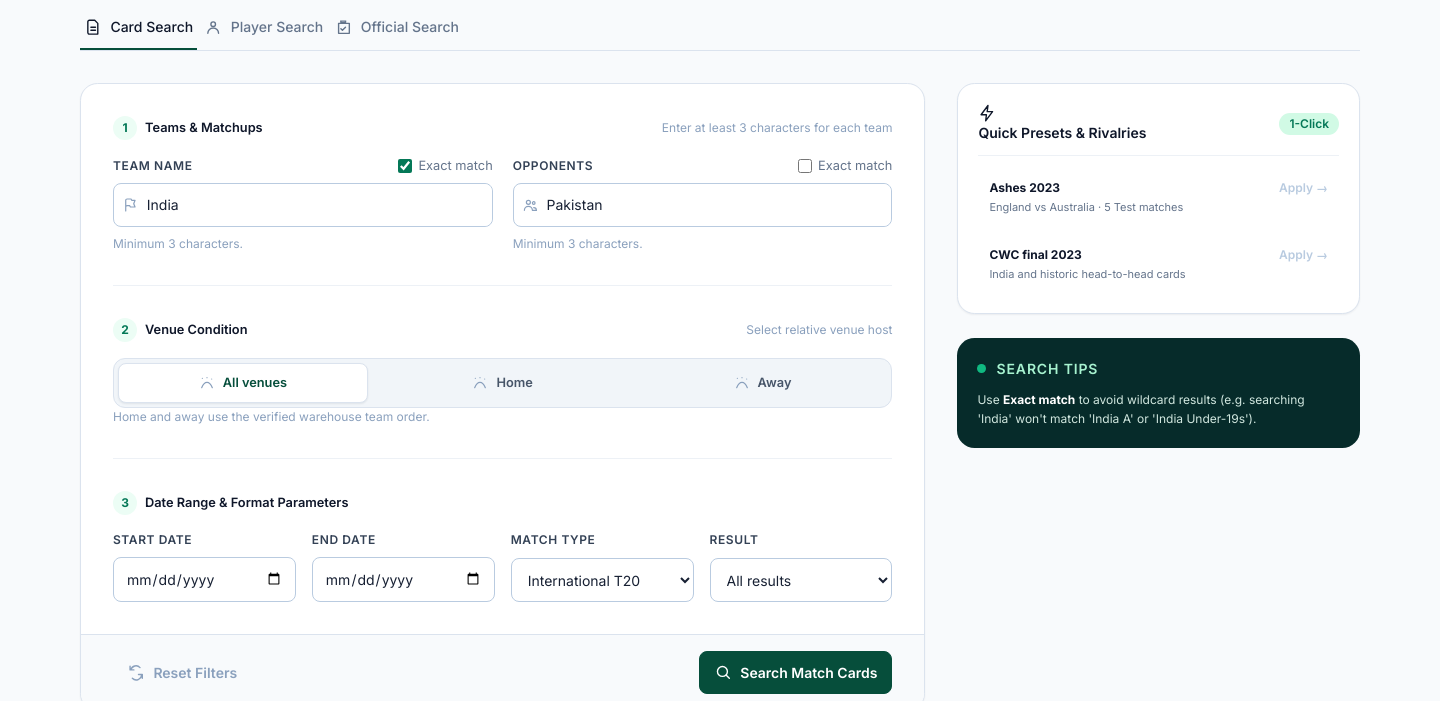
Test: MatchSearchComponent › should show an error for each name that has fewer than three characters
Replace the text in the field named "team" with "ab" at (319, 205), box [147,184,492,226]
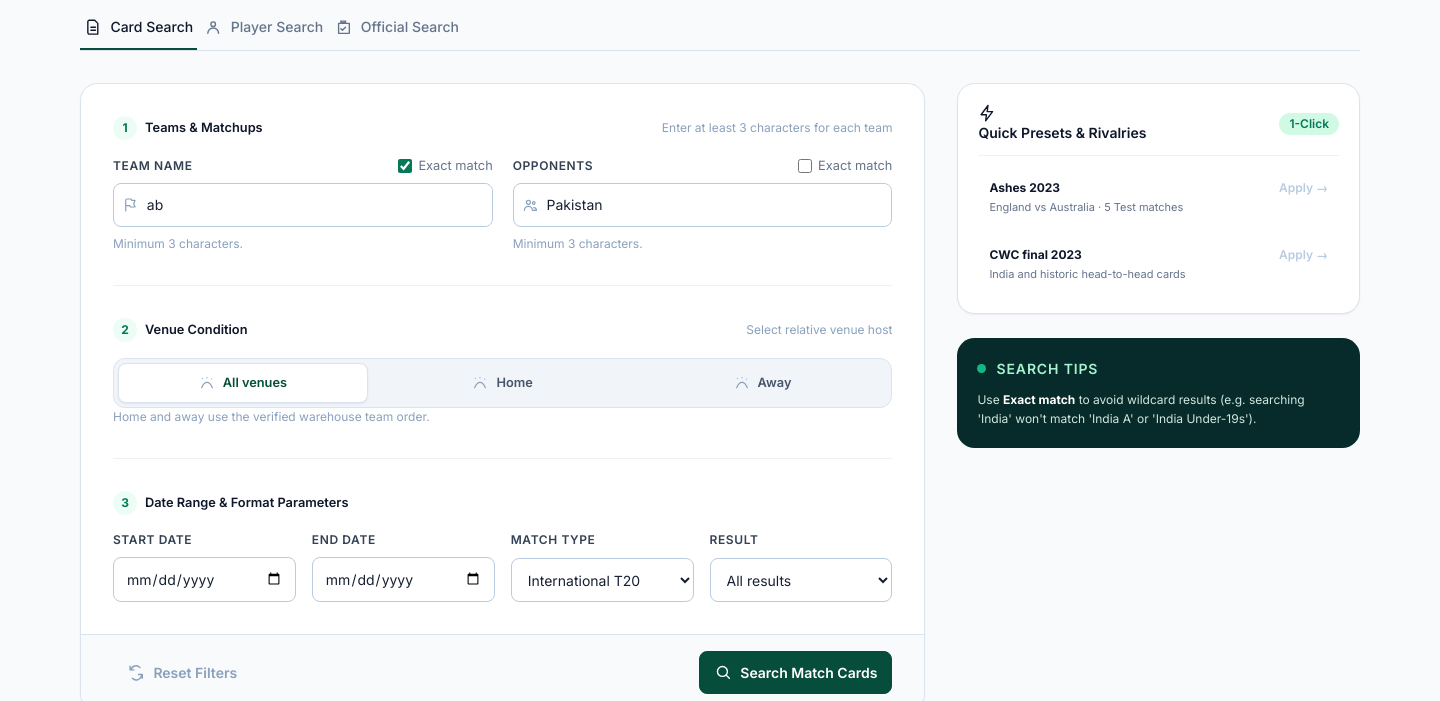
Replace the text in the field named "opponents" with "x" at (719, 205), box [546,184,891,226]
(page scrolled)
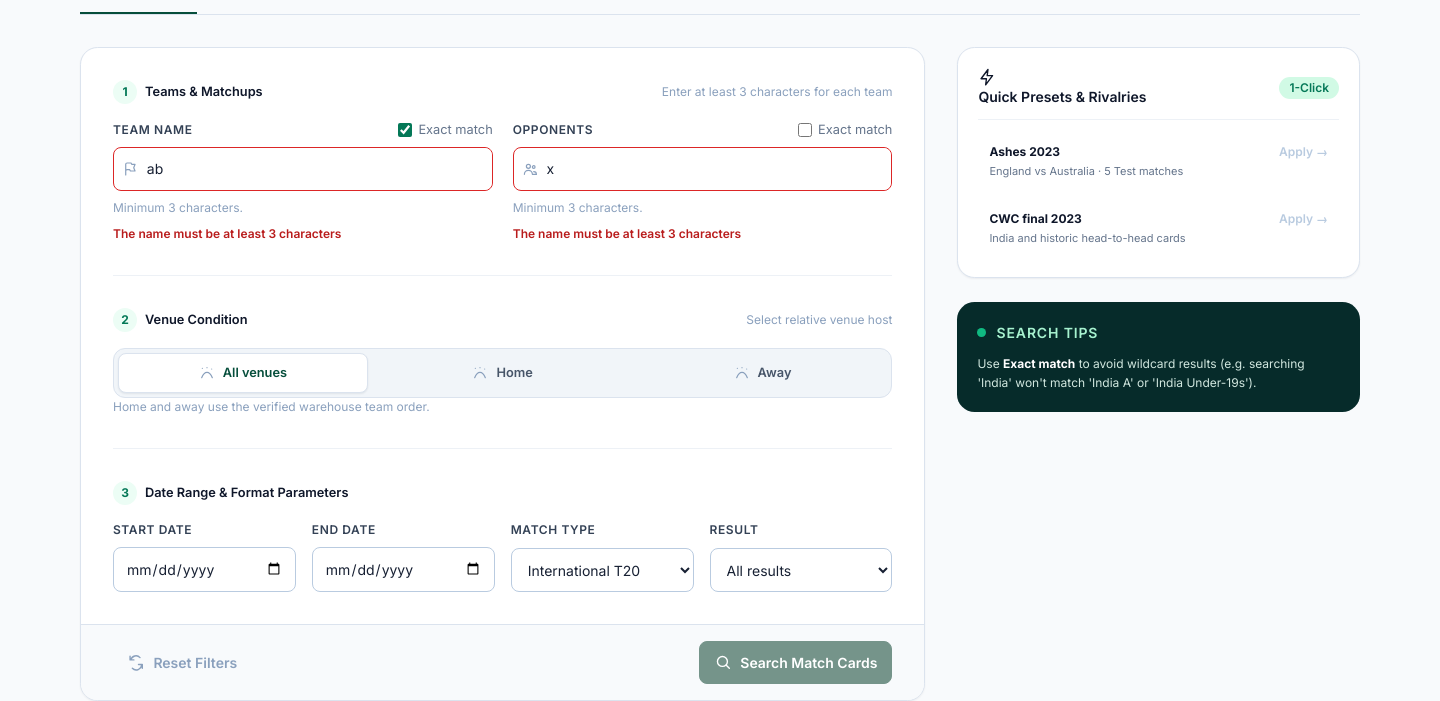
Now the message "The name must be at least 3 characters" below "Team Name" is shown, box [113,226,341,241]
Now the submit button is disabled, box [699,641,892,684]
